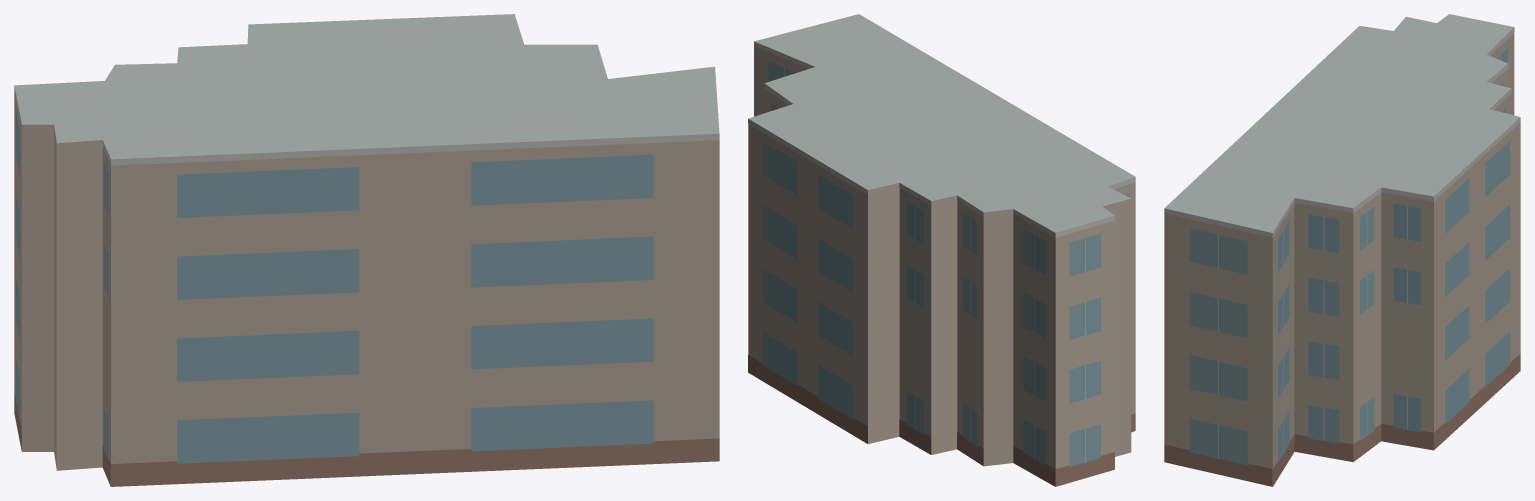
The model's file is survey-upis-33004244.glb.
3 renders of one model, left to right at view 1: azimuth 30°, elevation 25°; view 2: azimuth 150°, elevation 25°; view 3: azimuth 270°, elevation 25°, orthographic. The views are drawn at different scales.
Visible parts, largest first — view 1: survey-upis-33004244.tmp; view 2: survey-upis-33004244.tmp; view 3: survey-upis-33004244.tmp.
Boxes of the visible parts, x1=… form: survey-upis-33004244.tmp: x1=14, y1=14, x2=719, y2=486; survey-upis-33004244.tmp: x1=748, y1=14, x2=1135, y2=486; survey-upis-33004244.tmp: x1=1164, y1=14, x2=1520, y2=486.
Bounding box in the file's own units: 23.01 × 12.43 × 15.82.
